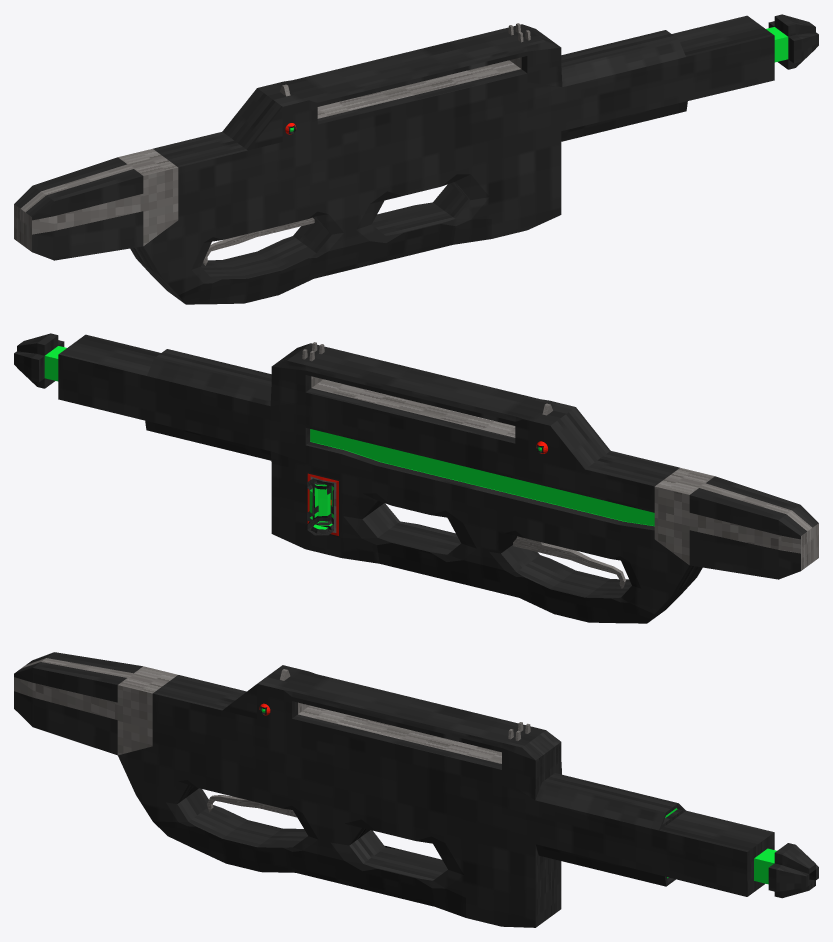
Rendered from Lazer gun (1).fbx.
The picture shows the model from 3 angles, top to bottom: view 1: azimuth 30°, elevation 25°; view 2: azimuth 150°, elevation 25°; view 3: azimuth 330°, elevation 25°; orthographic projection.
Visible parts, largest first — view 1: Frame, Trigger; view 2: Frame, Energy bar, Trigger, Energy Cell Frame, Energy Cell.glow; view 3: Frame, Trigger, Energy Barrel.
Boxes of the visible parts, box(x1,y1,x2,y2) form: Frame: box(14, 14, 818, 304); Trigger: box(203, 217, 314, 265); Frame: box(14, 333, 818, 623); Energy bar: box(310, 429, 654, 526); Trigger: box(513, 536, 625, 588); Energy Cell Frame: box(307, 478, 333, 535); Energy Cell.glow: box(309, 484, 333, 529); Frame: box(14, 652, 818, 927); Trigger: box(207, 795, 296, 817); Energy Barrel: box(754, 848, 776, 884).
Size of the model in its own units: 638 by 154 by 51.76.
Materials: 4 (2 with a texture image).
